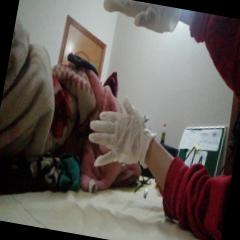gloved: (83, 90, 158, 176), (97, 0, 179, 38)
